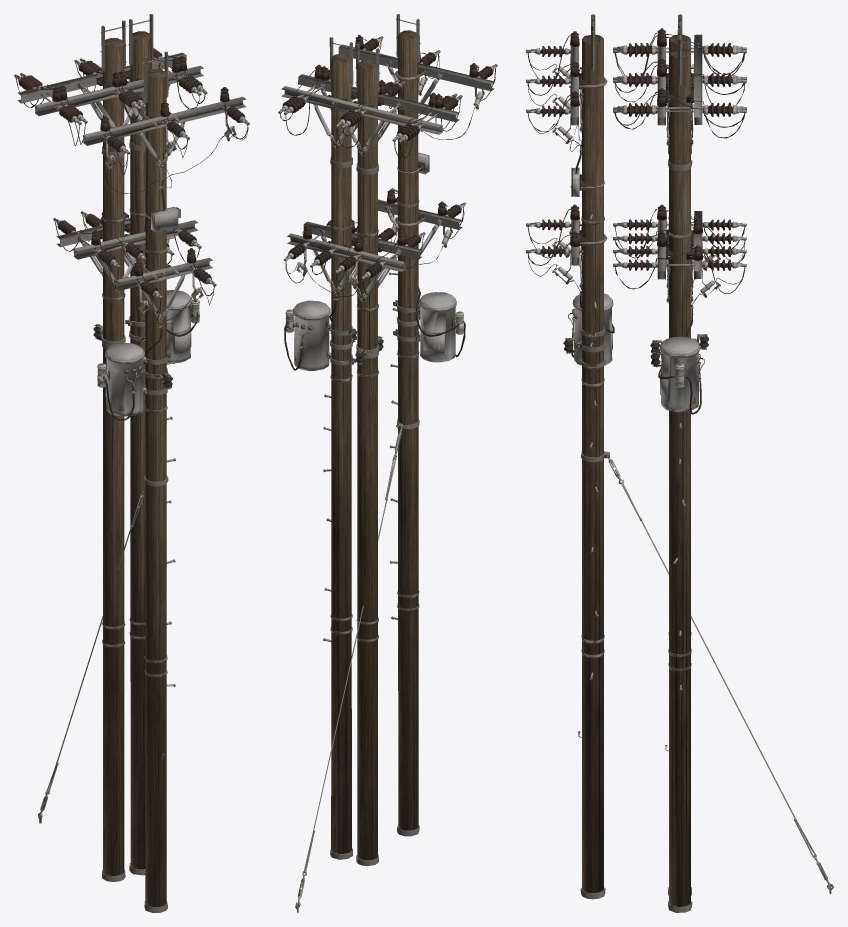
File: electricity_poles.glb
3 renders of one model, left to right at view 1: azimuth 30°, elevation 25°; view 2: azimuth 150°, elevation 25°; view 3: azimuth 270°, elevation 25°, orthographic. The views are drawn at different scales.
Visible parts, largest first — view 1: pole_01_lod0, pole_02_lod0, pole_03_lod0; view 2: pole_03_lod0, pole_01_lod0, pole_02_lod0; view 3: pole_01_lod0, pole_03_lod0, pole_02_lod0.
Boxes of the visible parts, x1=… form: pole_01_lod0: x1=38, y1=51, x2=249, y2=912; pole_02_lod0: x1=20, y1=20, x2=207, y2=881; pole_03_lod0: x1=14, y1=14, x2=201, y2=875; pole_03_lod0: x1=284, y1=37, x2=462, y2=859; pole_01_lod0: x1=295, y1=14, x2=497, y2=912; pole_02_lod0: x1=278, y1=43, x2=457, y2=866; pole_01_lod0: x1=526, y1=14, x2=833, y2=899; pole_03_lod0: x1=613, y1=28, x2=746, y2=912; pole_02_lod0: x1=613, y1=14, x2=746, y2=895.
Size of what is drawn, in the model's own units: 1.29 by 6.13 by 1.96.
2 materials, 2 textured.
